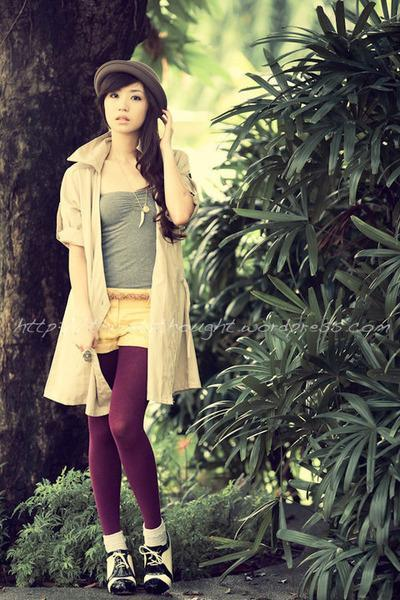hat: (94, 43, 161, 99)
jacket: (43, 124, 201, 419)
pants: (87, 346, 164, 534)
shirt: (99, 188, 161, 288)
shoe: (103, 522, 172, 599)
